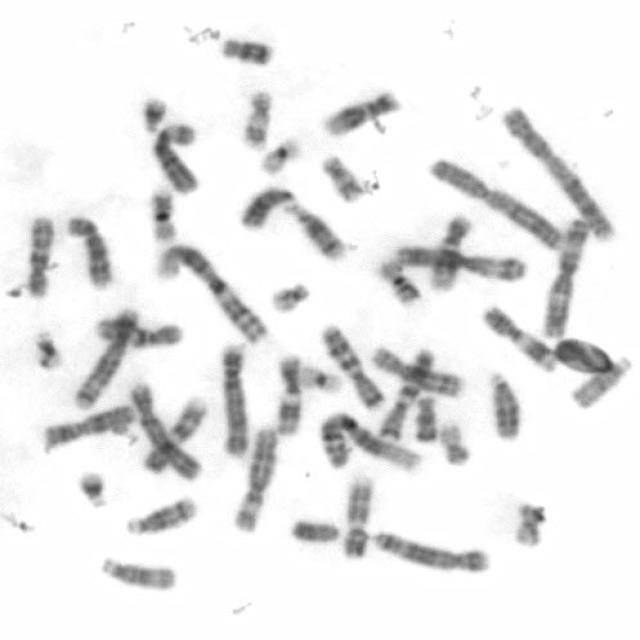A1: (151, 240, 274, 348), (321, 409, 421, 470)
A2: (497, 103, 622, 250), (424, 158, 569, 249)
A3: (540, 216, 590, 341), (386, 242, 530, 282)
B4: (126, 382, 206, 484), (214, 343, 254, 455)
B5: (70, 308, 140, 408), (366, 528, 493, 574)
C10: (19, 212, 57, 300), (90, 316, 184, 348)
C11: (478, 304, 562, 373), (269, 354, 304, 439)
C12: (318, 87, 401, 141), (425, 213, 475, 292)
C6: (230, 422, 280, 532), (147, 115, 207, 197)
C7: (374, 342, 441, 443), (319, 324, 386, 411)
C8: (372, 345, 468, 400), (62, 210, 115, 291)
C9: (142, 392, 207, 474), (337, 468, 376, 562)
D13: (483, 368, 521, 444), (237, 185, 300, 229)
D14: (284, 200, 346, 262), (122, 495, 202, 539)
D15: (565, 351, 635, 412), (96, 554, 180, 593)
E16: (374, 259, 424, 309), (146, 185, 179, 246)
E17: (236, 86, 277, 152), (316, 151, 366, 203)
E18: (216, 34, 277, 68), (411, 392, 440, 444)
F19: (254, 134, 304, 178), (299, 363, 345, 398)
F20: (508, 499, 552, 548), (434, 417, 473, 471)
G21: (72, 470, 111, 512), (136, 93, 170, 134)
G22: (268, 282, 313, 316), (31, 328, 63, 369)
X: (39, 401, 138, 453)
Y: (288, 516, 338, 544)
